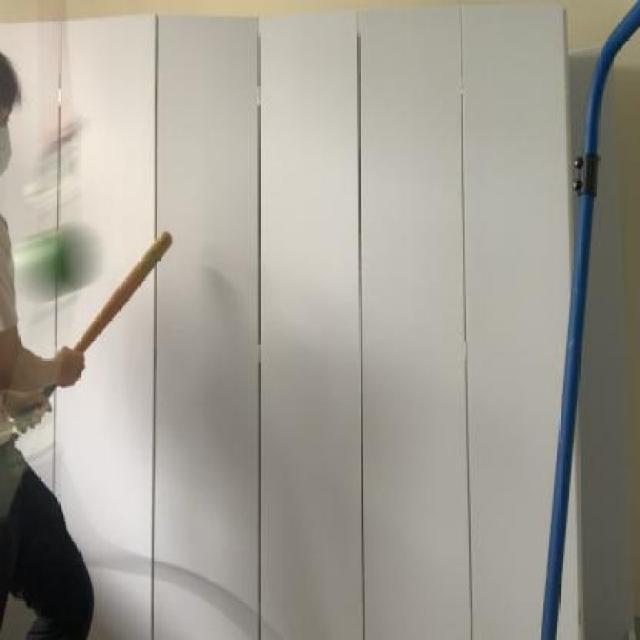baseball: (0, 200, 108, 314)
